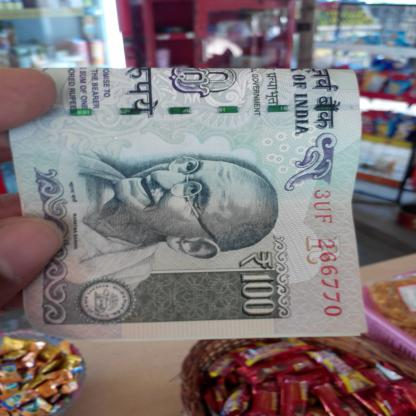Old100Front: (6, 69, 370, 341)
